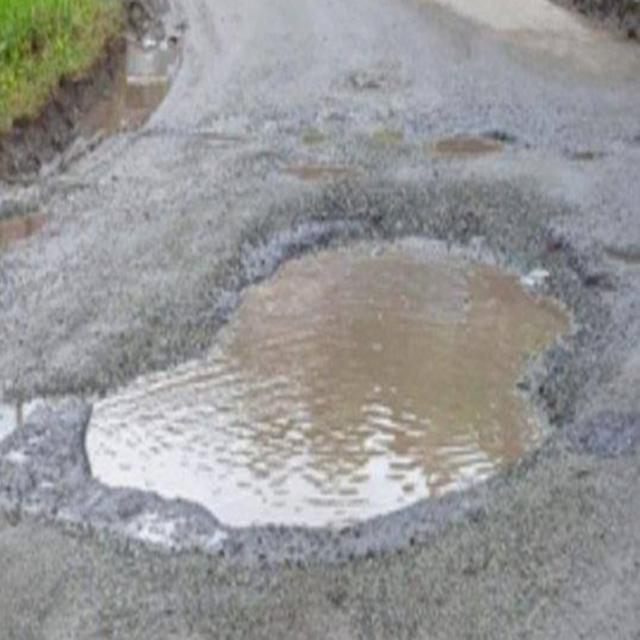Lubang: (82, 207, 588, 557)
